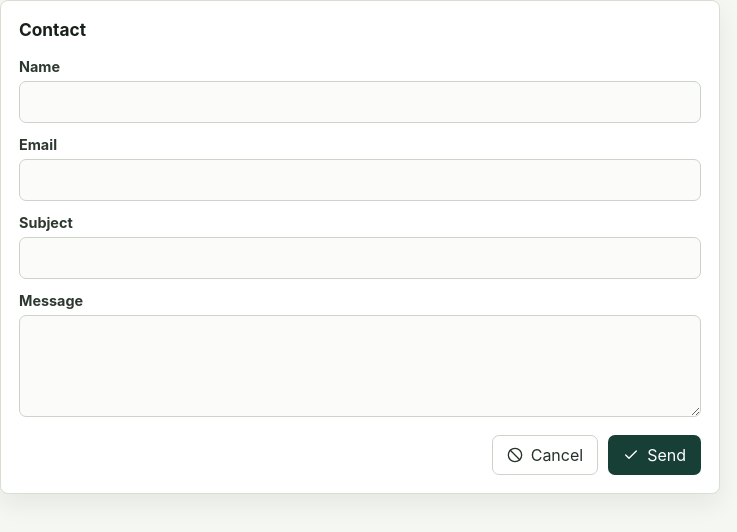
Test case: DynamicForm › leaves the form editable after a rejected response
The image size is (737, 532).
Type "Siva" into the field labelled "Name" at {"x": 360, "y": 102}, box left=19, top=81, right=701, bottom=123
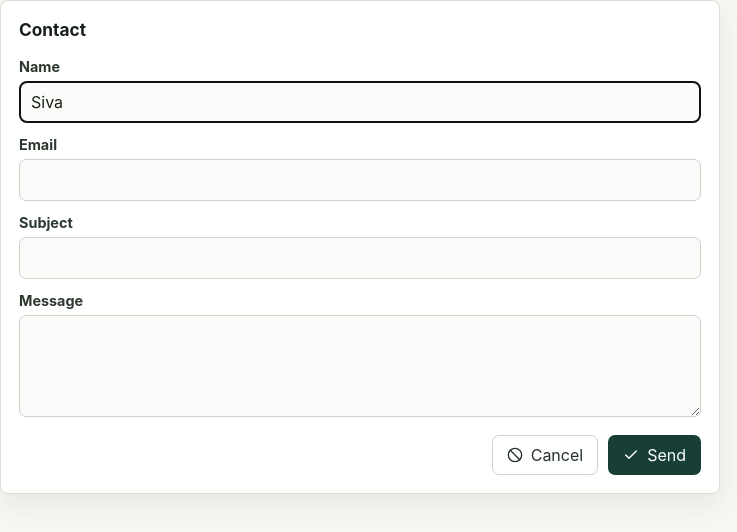
Type "siva@example.com" into the field labelled "Email" at {"x": 360, "y": 180}, box left=19, top=159, right=701, bottom=201
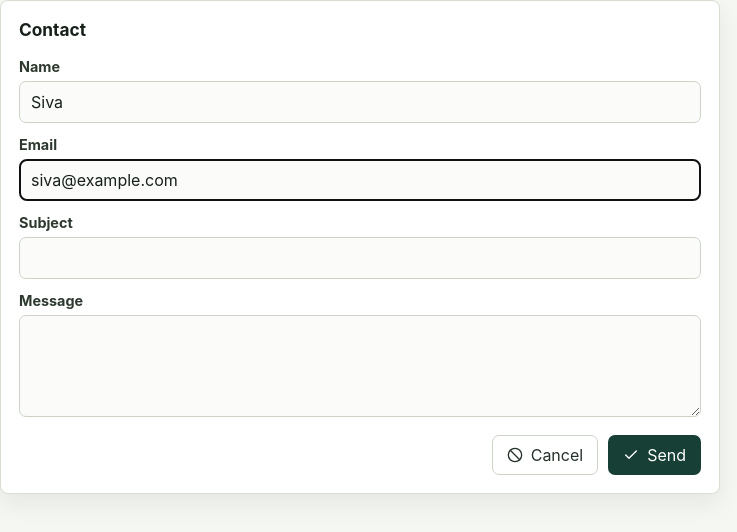
Type "Hello" into the field labelled "Subject" at {"x": 360, "y": 258}, box left=19, top=237, right=701, bottom=279
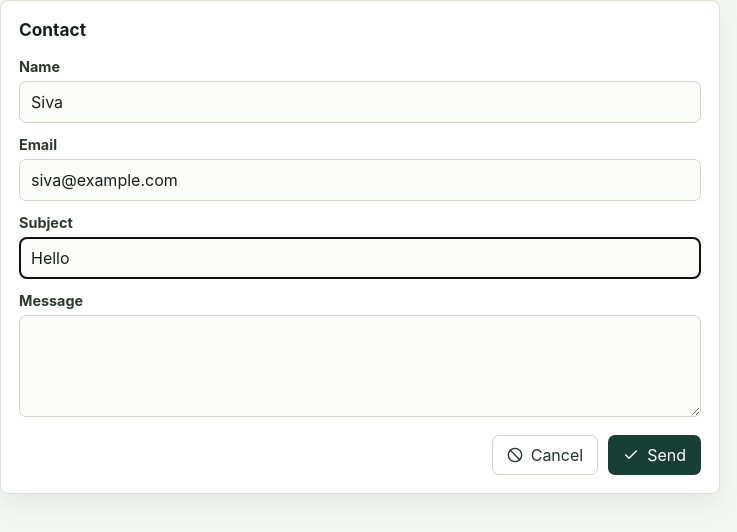
Type "Need help" into the text box labelled "Message" at {"x": 360, "y": 366}, box left=19, top=315, right=701, bottom=417
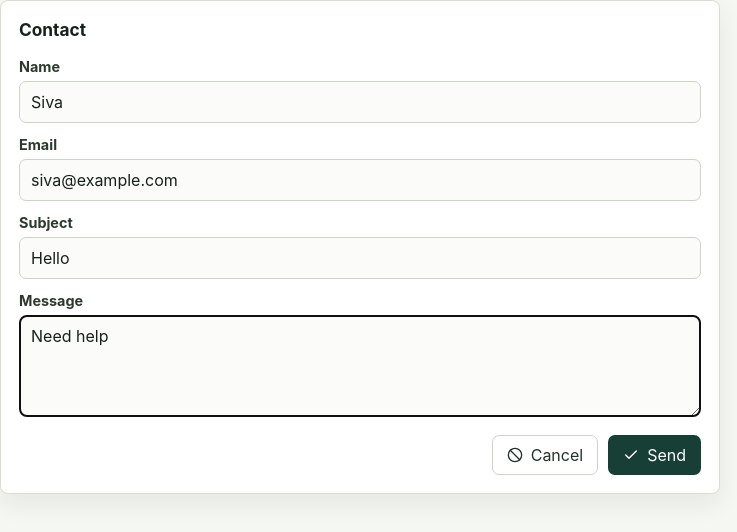
Click the button "Send" at {"x": 655, "y": 455}, box left=608, top=435, right=701, bottom=475
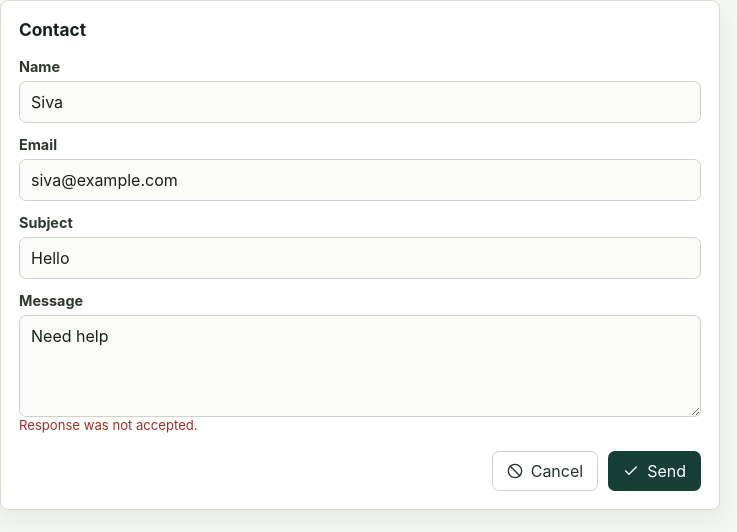
Expected: the field labelled "Name" is enabled, left=19, top=81, right=701, bottom=123
Expected: the text "Response was not accepted." is shown, left=19, top=417, right=198, bottom=433
